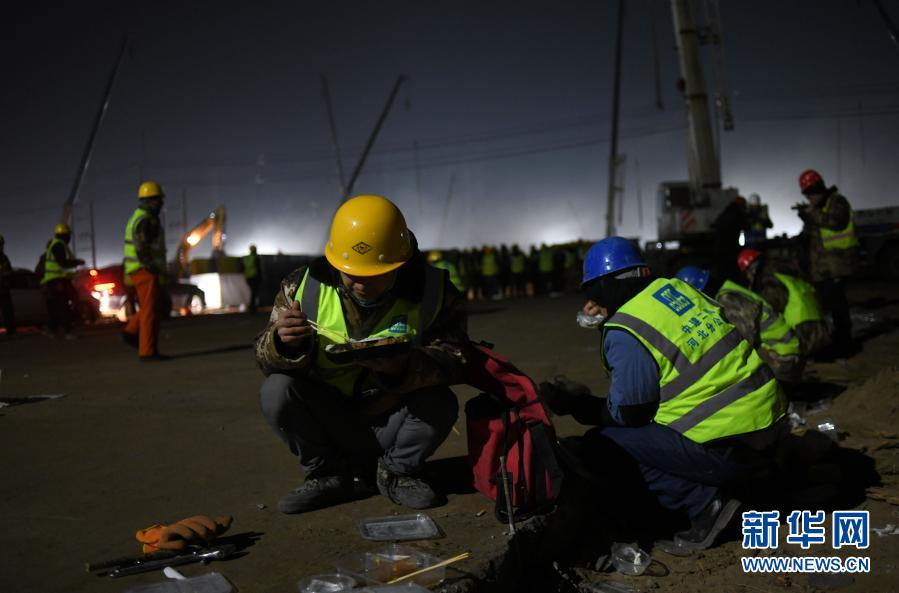safetyhat: (230, 174, 473, 513), (551, 227, 785, 541)
